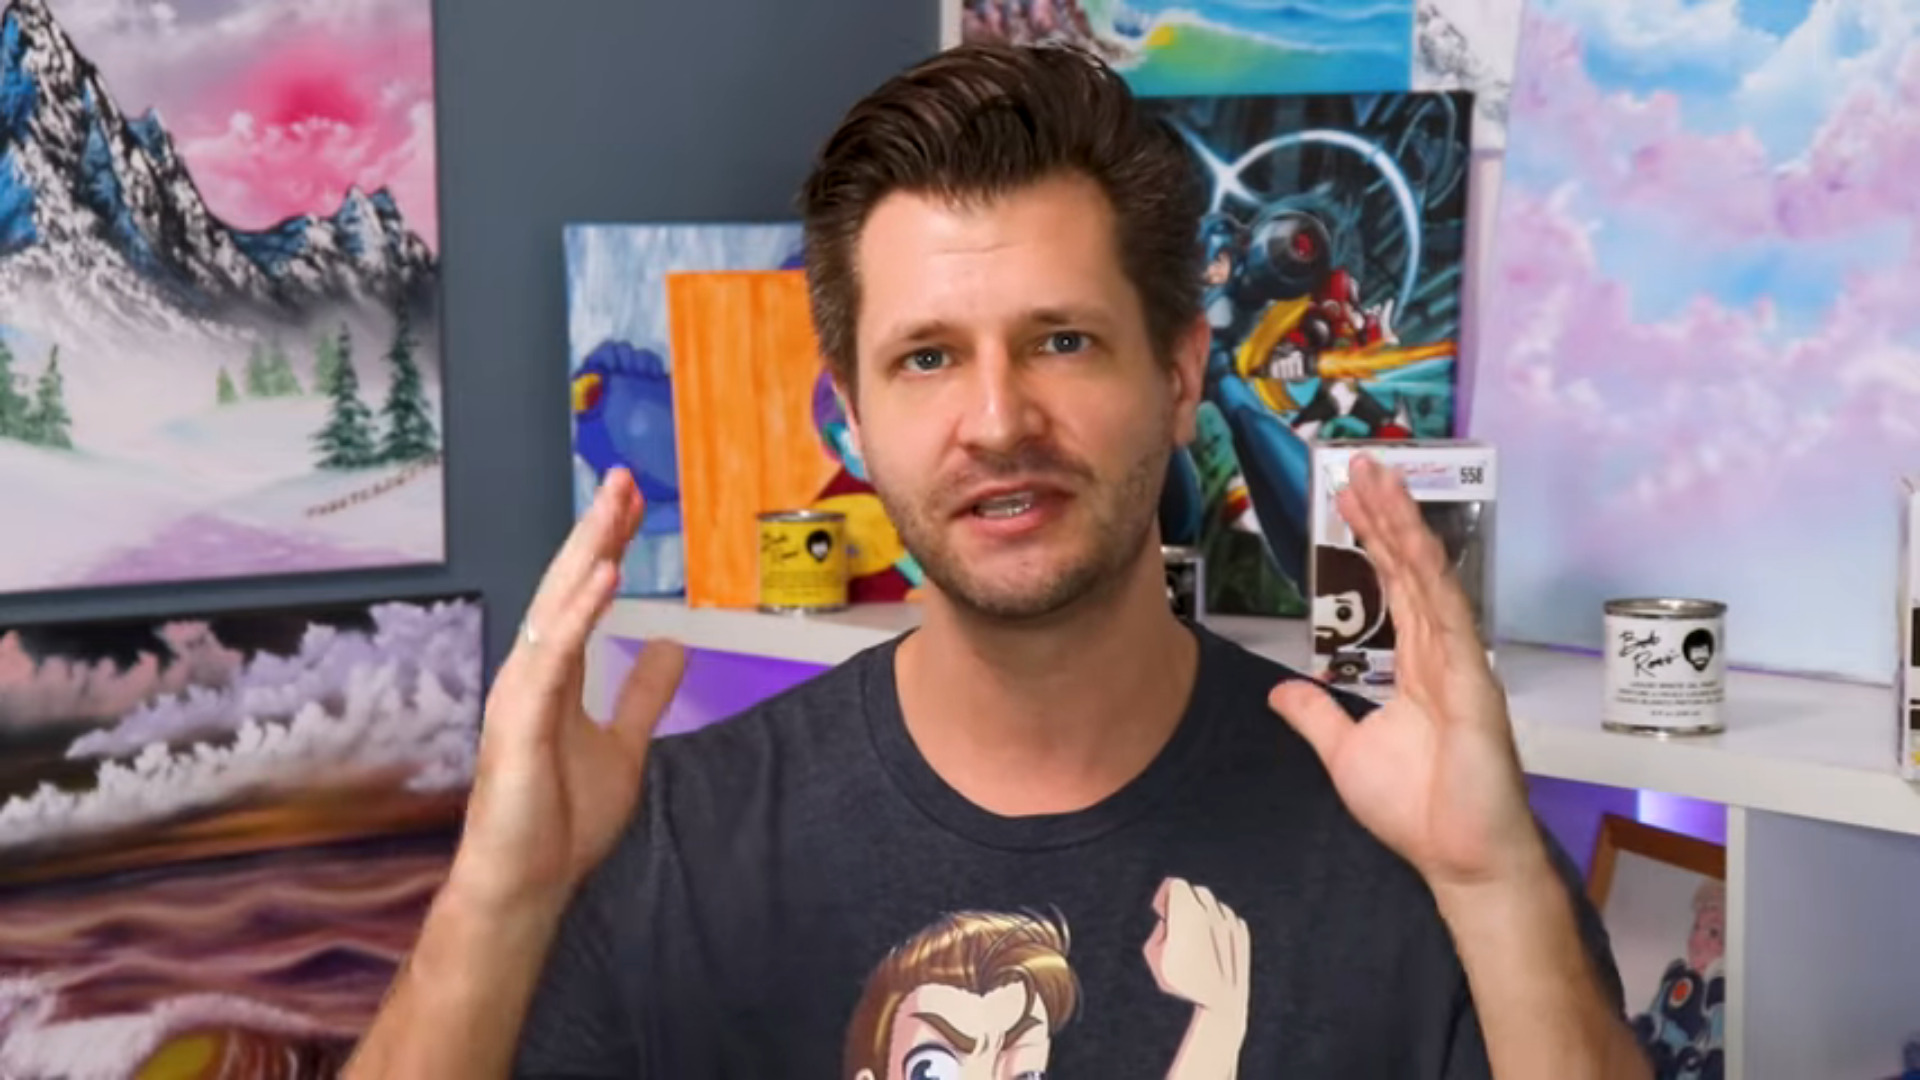hand: (1259, 451, 1551, 889), (467, 464, 695, 899)
